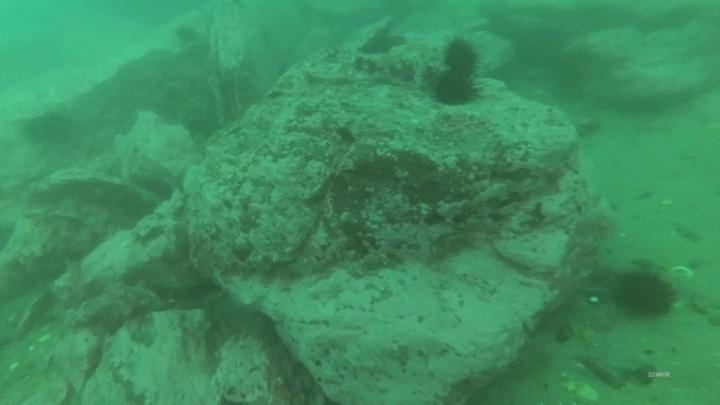echinus: (610, 267, 679, 322), (22, 108, 76, 148), (430, 70, 480, 108), (441, 36, 482, 77), (171, 22, 201, 48)
